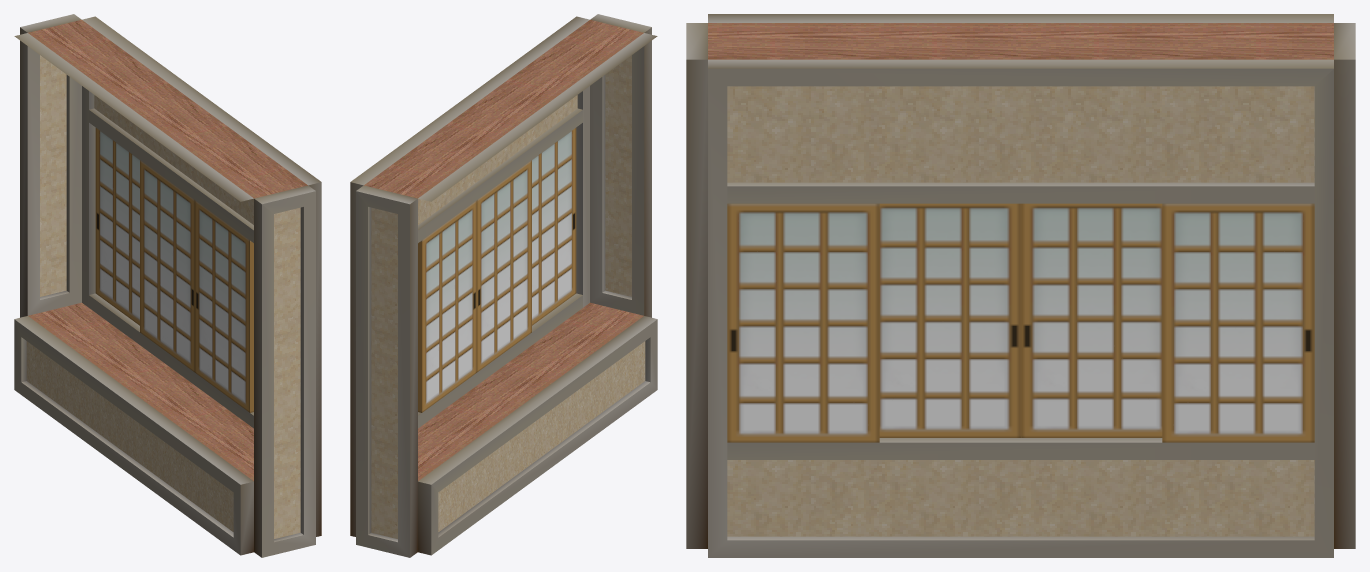
Rendered from mado_3jyo_01.fbx.
3 views of the same model, side by side, from view 1: azimuth 30°, elevation 25°; view 2: azimuth 150°, elevation 25°; view 3: azimuth 270°, elevation 25° (orthographic). The views are drawn at different scales.
Visible parts, largest first — view 1: tutikabe020, tutikabe03, tenjyo01, door02, door01, door03; view 2: tutikabe020, tutikabe03, tenjyo01, door01, door02, door04; view 3: tutikabe020, door03, door04, door01, door02, tenjyo01, tutikabe03.
Boxes of the visible parts, x1,y1,x2,y2 form: tutikabe020: (20, 14, 321, 557); tutikabe03: (14, 33, 253, 555); tenjyo01: (28, 19, 307, 480); door02: (195, 200, 253, 412); door01: (140, 160, 194, 372); door03: (95, 128, 139, 325); tutikabe020: (350, 14, 651, 557); tutikabe03: (418, 33, 657, 555); tenjyo01: (364, 19, 643, 480); door01: (418, 200, 476, 412); door02: (477, 160, 531, 372); door04: (532, 128, 576, 325); tutikabe020: (686, 23, 1355, 557); door03: (1162, 203, 1314, 442); door04: (727, 203, 879, 442); door01: (1021, 203, 1162, 437); door02: (879, 203, 1020, 437); tenjyo01: (708, 23, 1333, 59); tutikabe03: (708, 14, 1333, 22).
Size of the model in its own units: 120 by 500 by 620.
